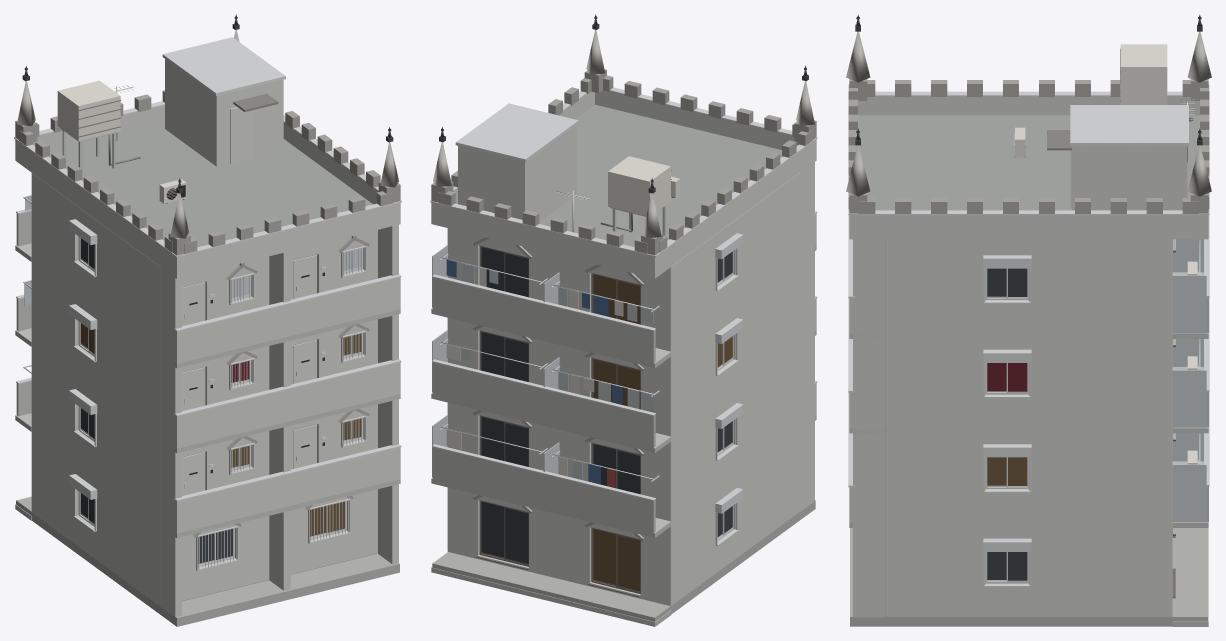
The model's file is blk_skyline9.glb.
The picture shows the model from 3 angles, left to right: view 1: azimuth 30°, elevation 25°; view 2: azimuth 150°, elevation 25°; view 3: azimuth 270°, elevation 25°; orthographic projection. The views are drawn at different scales.
Parts seen in each view (by area): view 1: blk_skyline9; view 2: blk_skyline9; view 3: blk_skyline9.
Part boxes in pixels (x1=…): blk_skyline9: x1=14, y1=14, x2=401, y2=626; blk_skyline9: x1=430, y1=14, x2=817, y2=626; blk_skyline9: x1=846, y1=14, x2=1211, y2=626.
Size of the model in its own units: 8.46 by 15.2 by 10.18.
